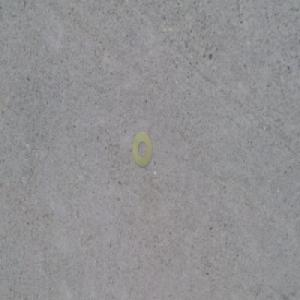Washer: (132, 130, 153, 171)
